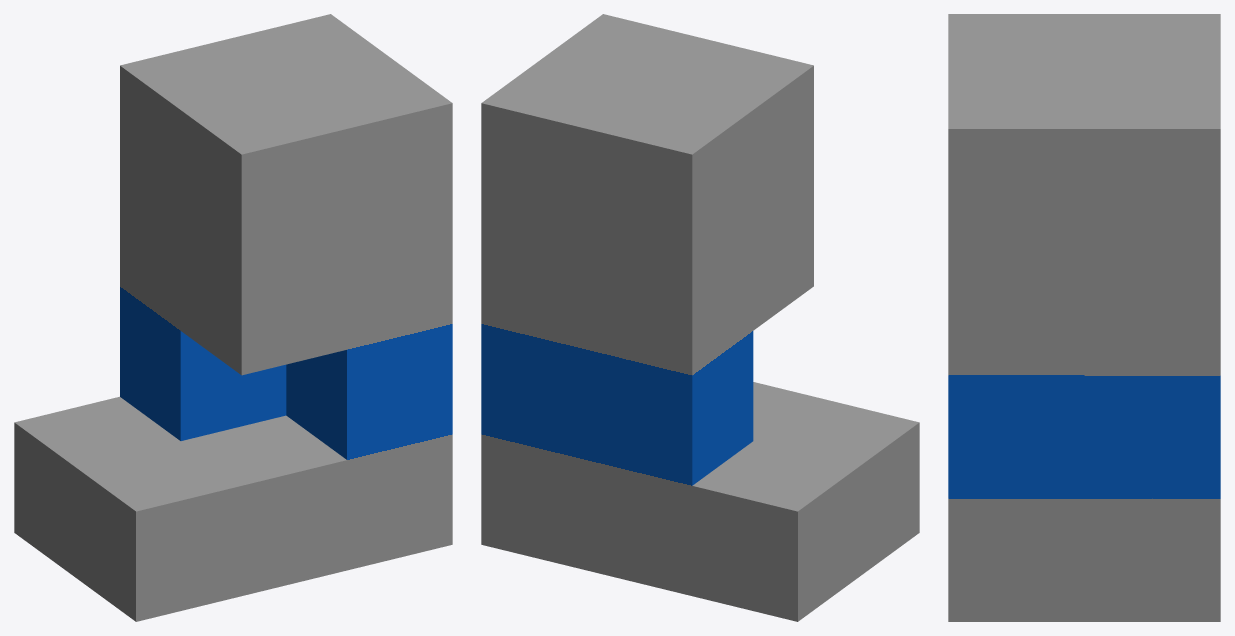
The model's file is PCLegL.dae.
3 views of the same model, side by side, from view 1: azimuth 30°, elevation 25°; view 2: azimuth 150°, elevation 25°; view 3: azimuth 270°, elevation 25° (orthographic). The views are drawn at different scales.
Parts seen in each view (by area): view 1: PCLeg; view 2: PCLeg; view 3: PCLeg.
Part boxes in pixels (x1,y1,x2,y2): PCLeg: [14, 14, 452, 621]; PCLeg: [481, 14, 919, 621]; PCLeg: [948, 14, 1220, 621].
Size of the model in its own units: 0.3 by 0.2 by 0.4.
1 material, 1 textured.
